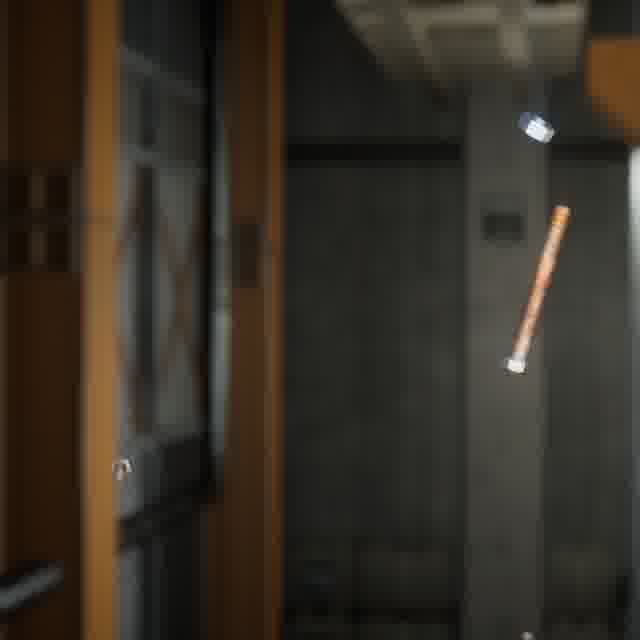bolt: (495, 200, 575, 379), (105, 452, 136, 487)
nut: (512, 107, 559, 146)
